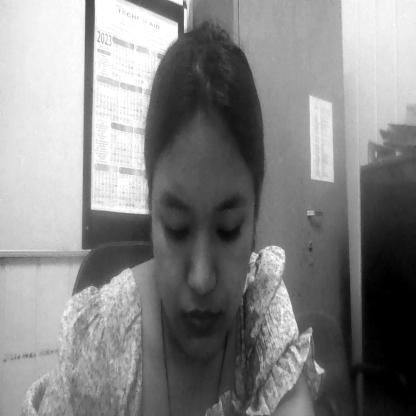Normal: (153, 113, 259, 370)
